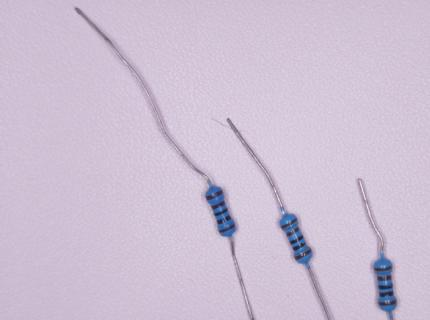Black band: (214, 207, 228, 217), (217, 214, 231, 224), (290, 235, 304, 245), (292, 241, 306, 251), (379, 291, 394, 297), (378, 283, 393, 289)
Brown band: (294, 248, 312, 260), (281, 218, 297, 229), (206, 190, 223, 200), (218, 223, 235, 233), (286, 227, 300, 237), (212, 201, 226, 210), (378, 299, 396, 305), (375, 265, 392, 271), (377, 275, 392, 281)
